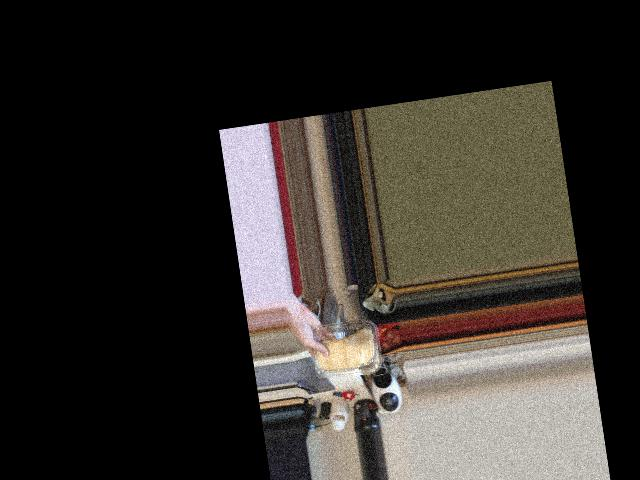cheese: (310, 314, 379, 386)
